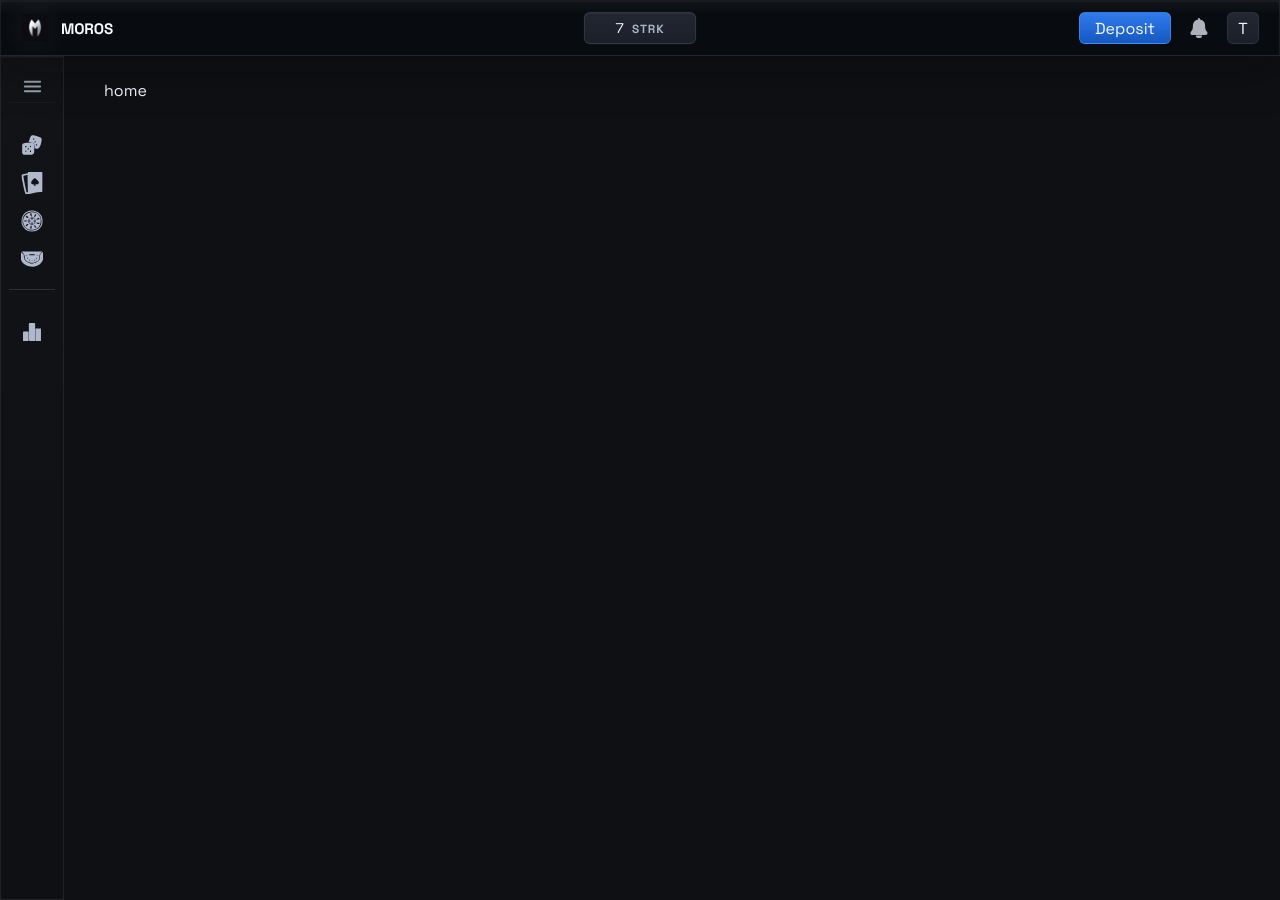
AppShell › opens wallet and profile menus on click with the restored actions
This screenshot has width=1280, height=900.
Click the button with aria-label "open wallet, balance 7 strk".
click(640, 28)  # box [584, 12, 696, 44]
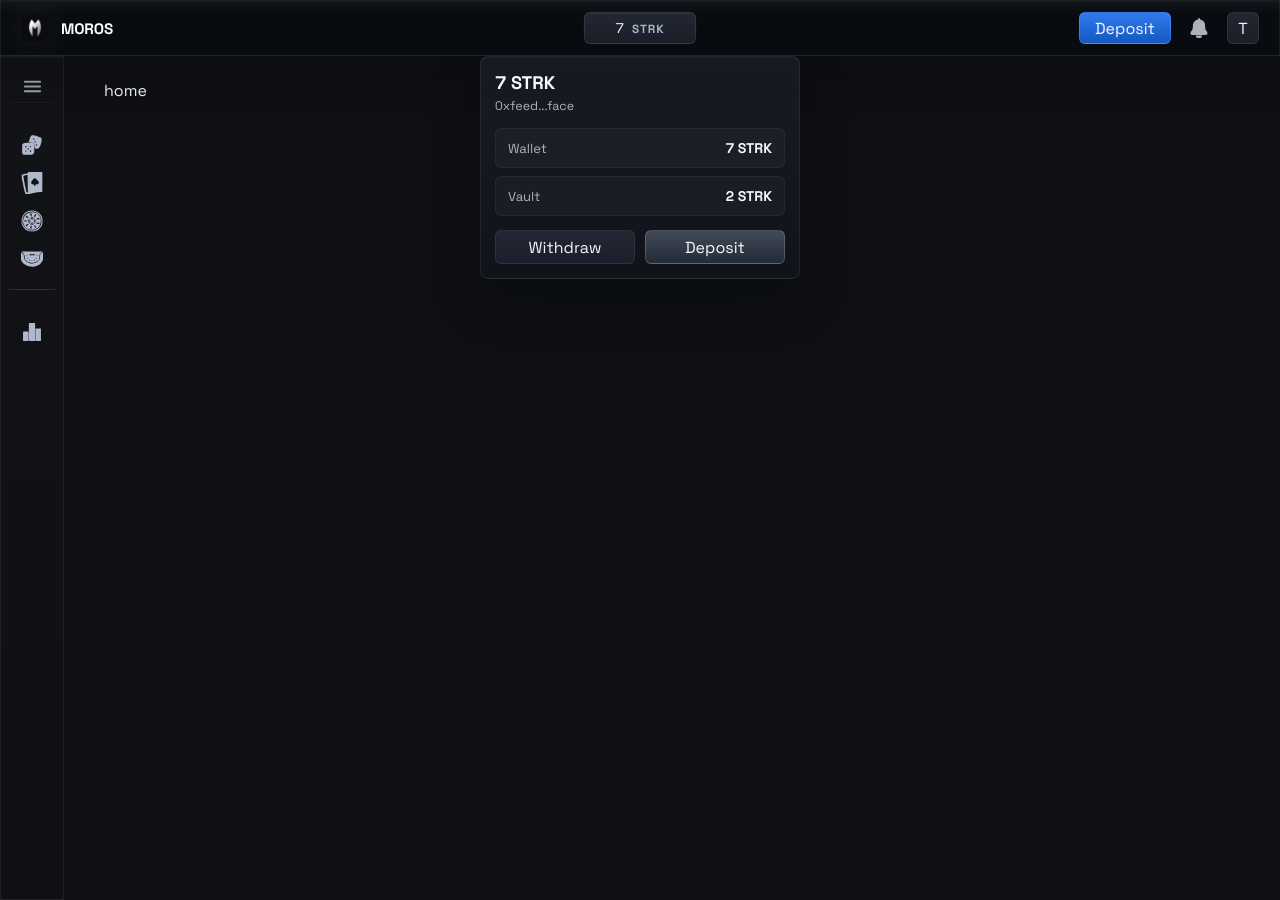
Expected: the dialog "Wallet" is shown, [480, 56, 800, 279]
Expected: the button "Withdraw" is shown, [495, 230, 635, 264]
Expected: the number of buttons "Deposit" is 2, [645, 230, 785, 264]; [1079, 12, 1171, 44]
Click the button titled "tanya".
click(1243, 28)  # box [1227, 12, 1259, 44]
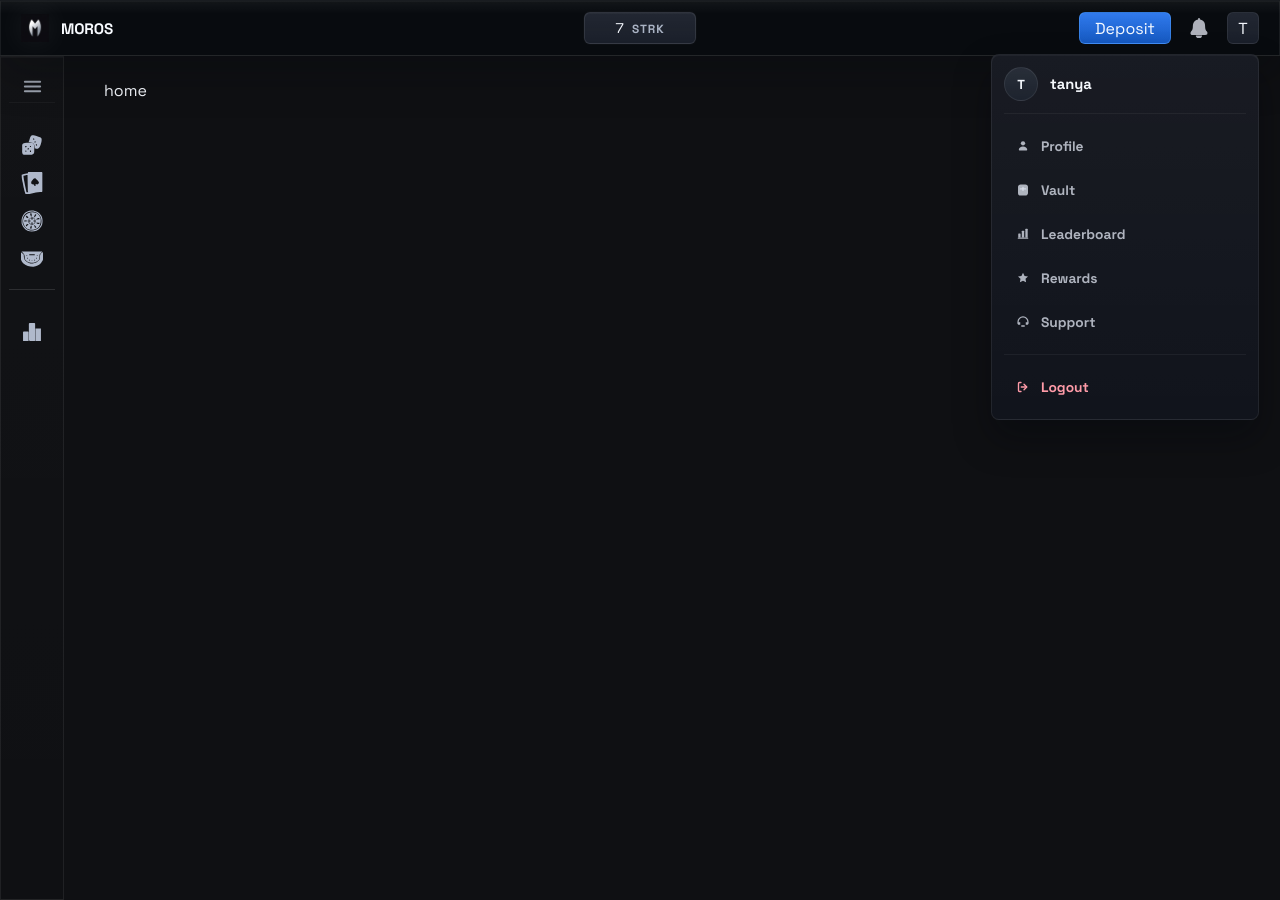
Expected: the button "Vault" is shown, [1004, 170, 1246, 210]
Expected: the button "Profile" is shown, [1004, 126, 1246, 166]
